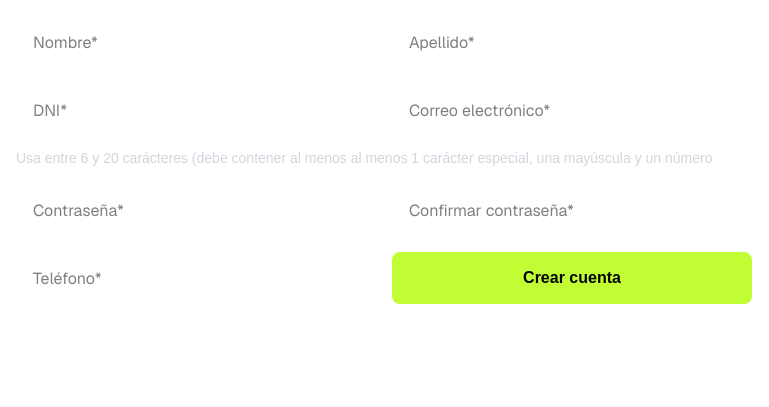
Test: RegisterPage › shows error when submitting empty form
Click the button "Crear cuenta" at (572, 278), box [392, 252, 752, 304]
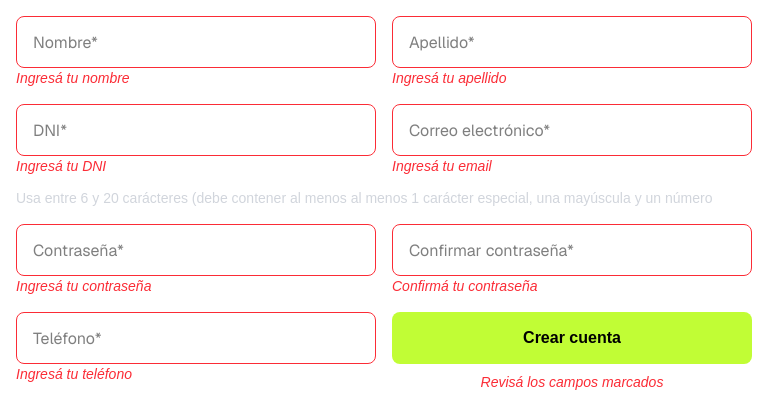
Expected: the text "Revisá los campos marcados" is shown, [481, 374, 664, 390]
